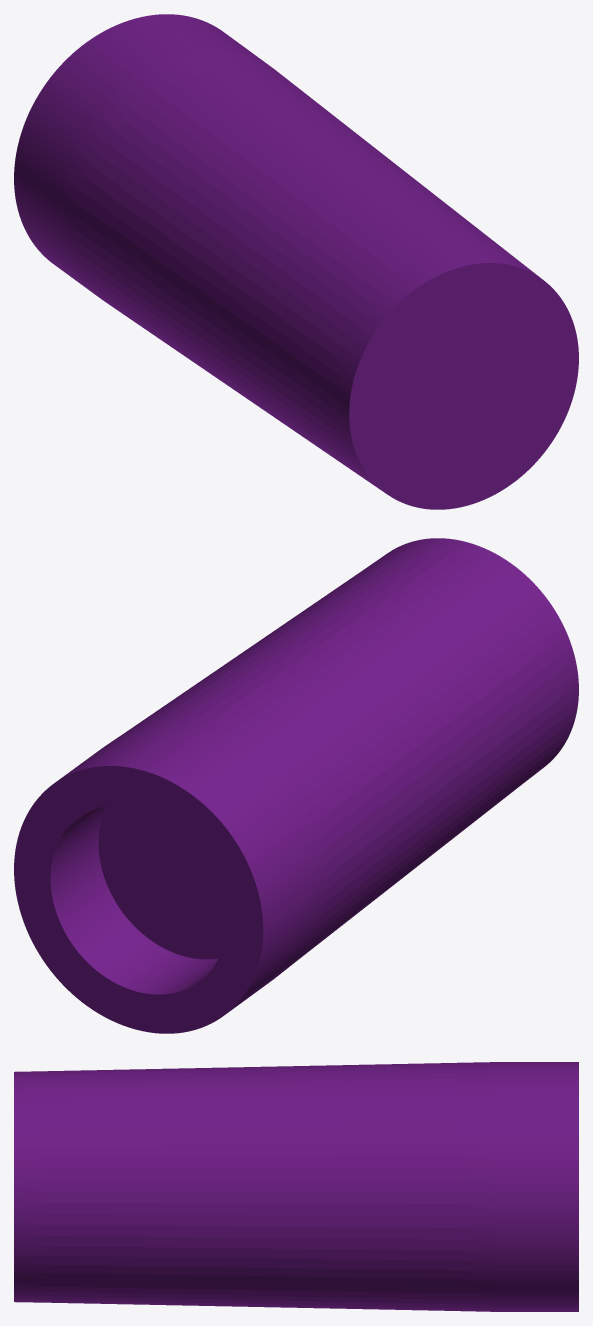
3 renders of one model, top to bottom at view 1: azimuth 30°, elevation 25°; view 2: azimuth 150°, elevation 25°; view 3: azimuth 270°, elevation 25°, orthographic. The views are drawn at different scales.
Visible parts, largest first — view 1: node; view 2: node; view 3: node.
Boxes of the visible parts, left/top/right/bottom form: node: left=14, top=14, right=578, bottom=509; node: left=14, top=538, right=578, bottom=1033; node: left=14, top=1062, right=578, bottom=1311.
Bounding box in the file's own units: 0.0519 × 0.0519 × 0.1173.
